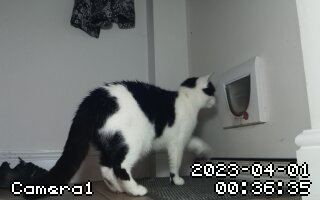bad: (10, 77, 232, 196)
